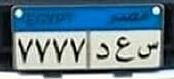7: (17, 36, 34, 67), (69, 36, 86, 66), (53, 37, 69, 64), (34, 37, 50, 64)
ain: (113, 35, 135, 68)
daal: (93, 40, 111, 63)
seen: (136, 38, 160, 62)
